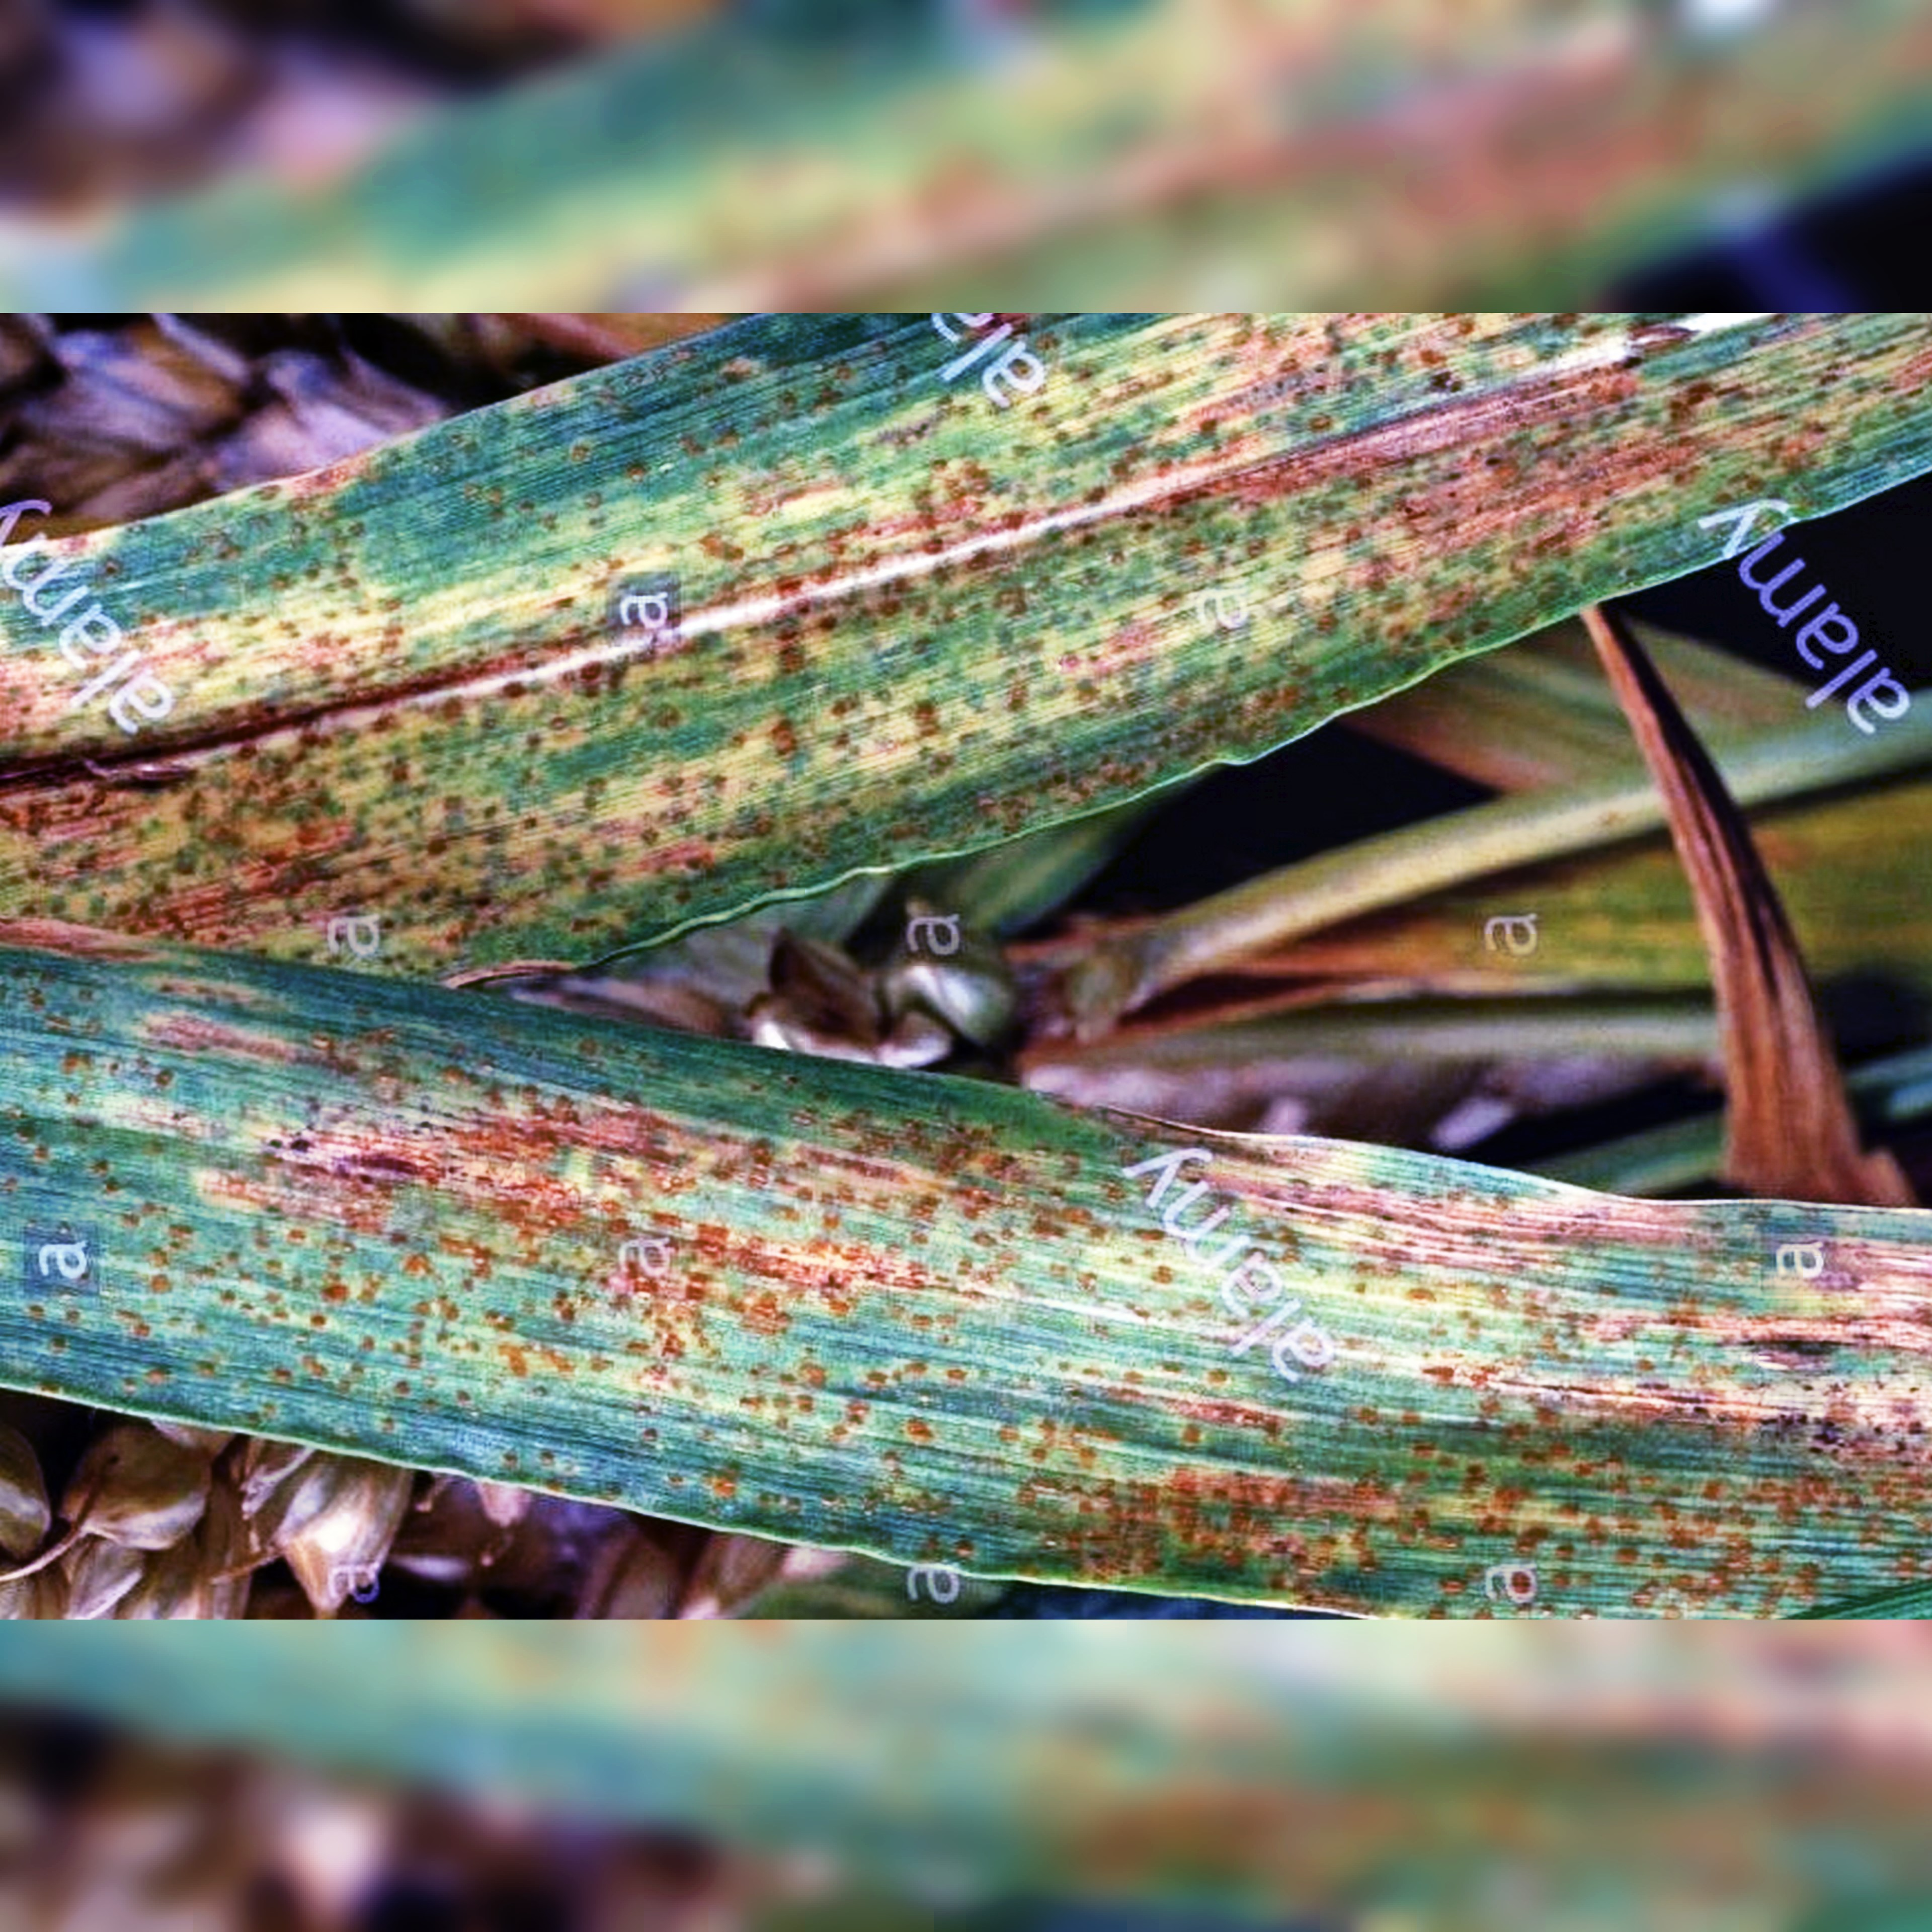Leaf Rust: (260, 1044, 1833, 1615), (301, 283, 1537, 970)
